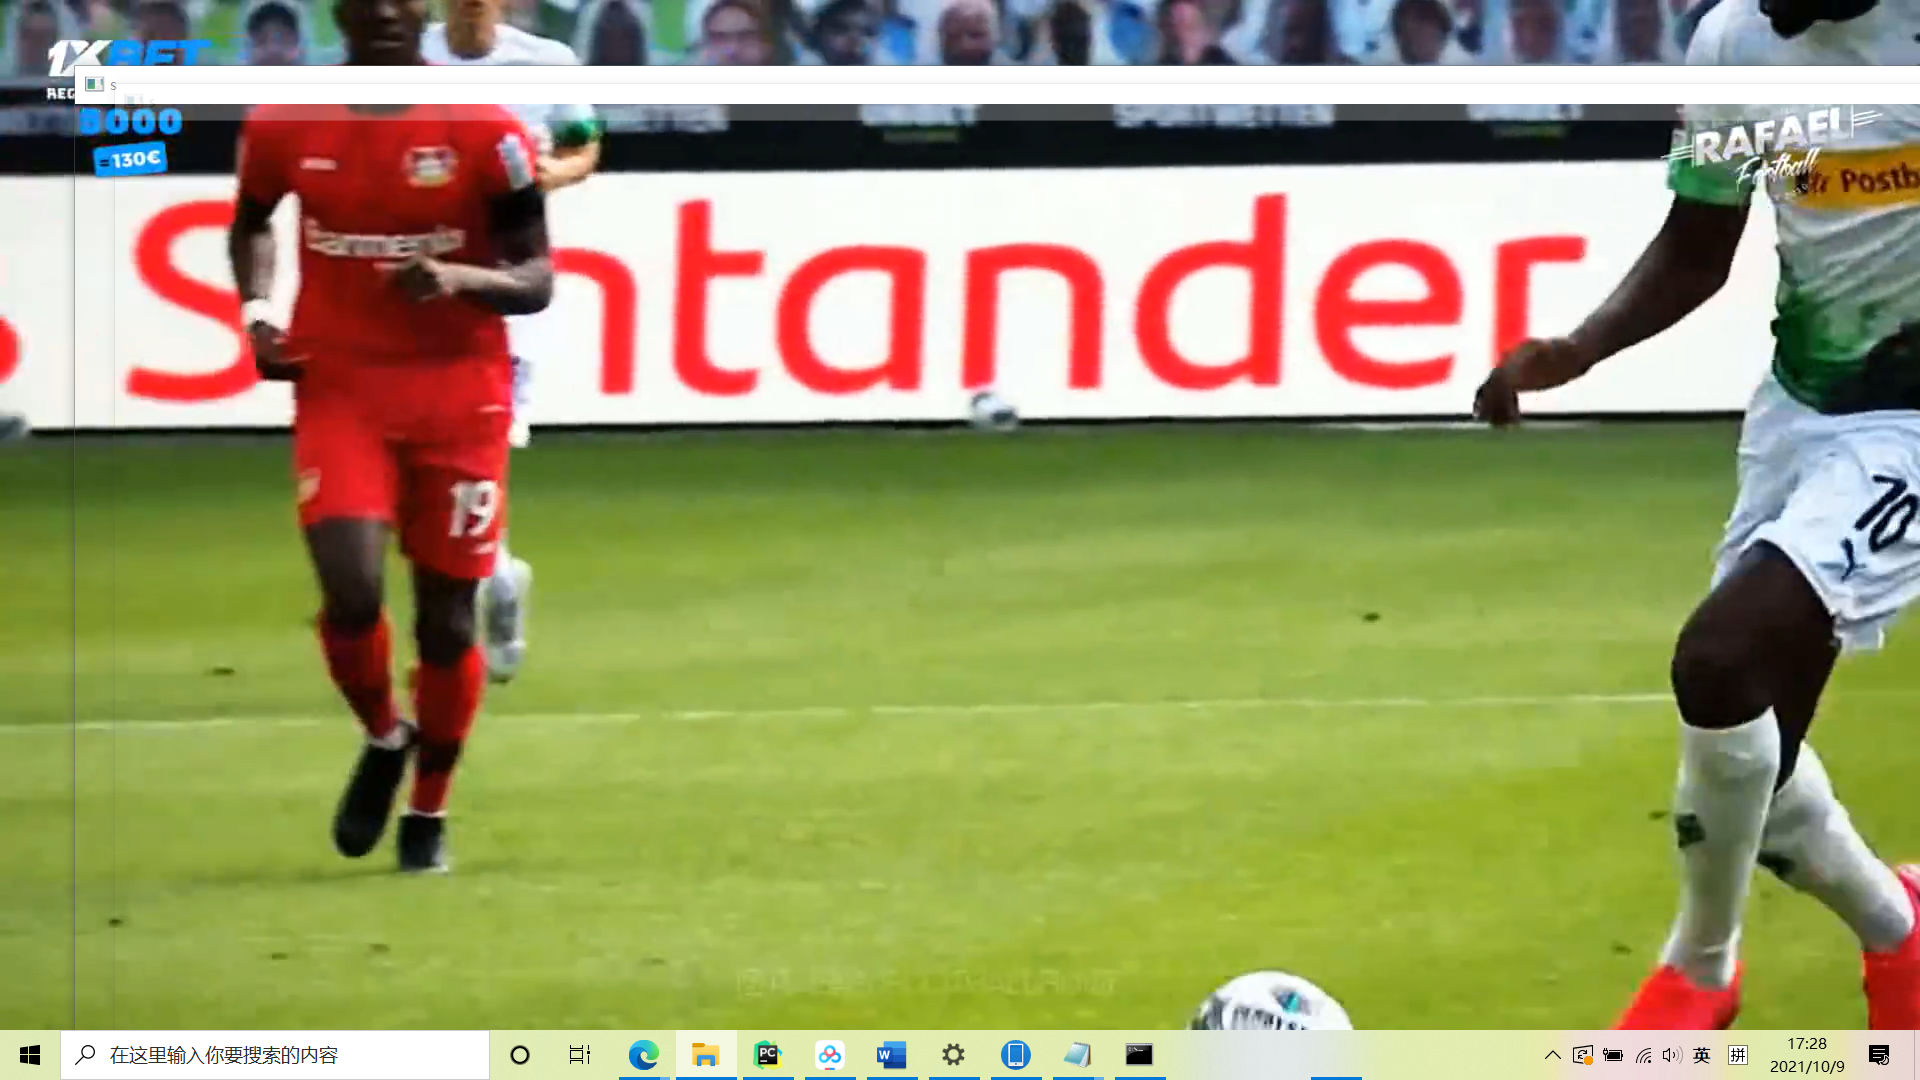ft: (1182, 965, 1356, 1030)
